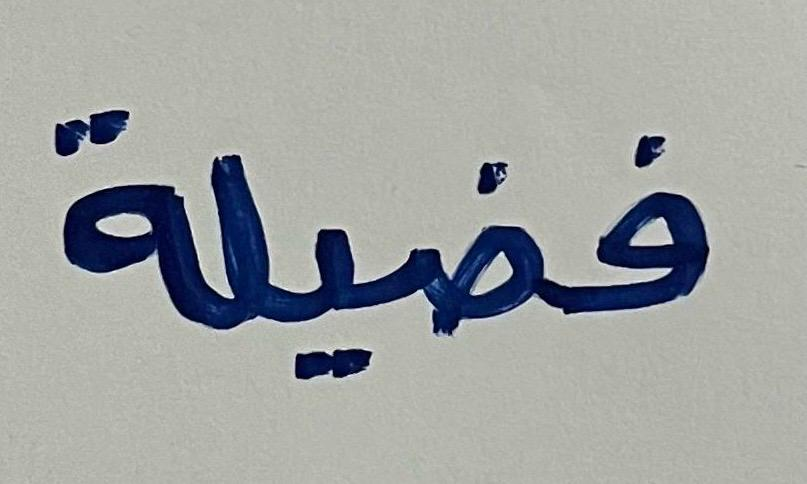dad: (377, 80, 571, 386)
feh: (576, 105, 734, 398)
lam: (203, 96, 273, 408)
teh_marbota: (42, 42, 199, 405)
yeh: (277, 156, 372, 450)
